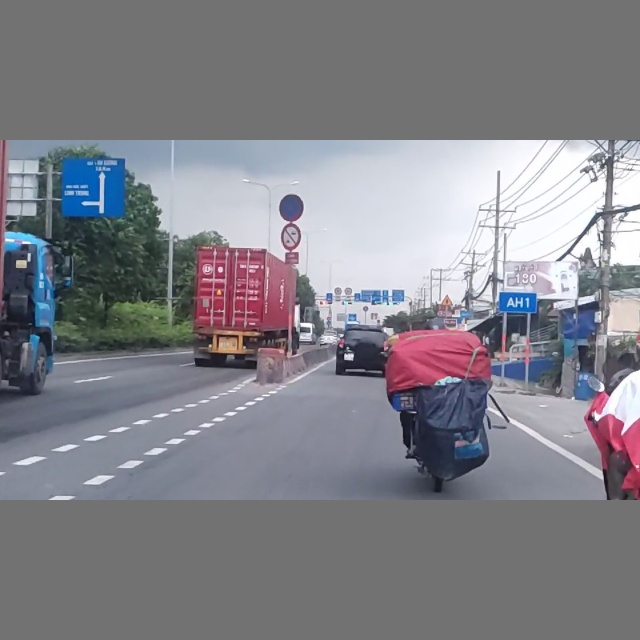P.111: (279, 223, 302, 250)
P.130: (278, 193, 304, 221)
